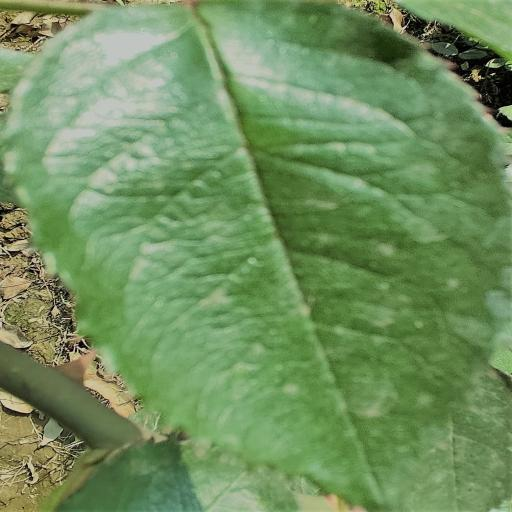healthy_leaf: (5, 0, 512, 512)
